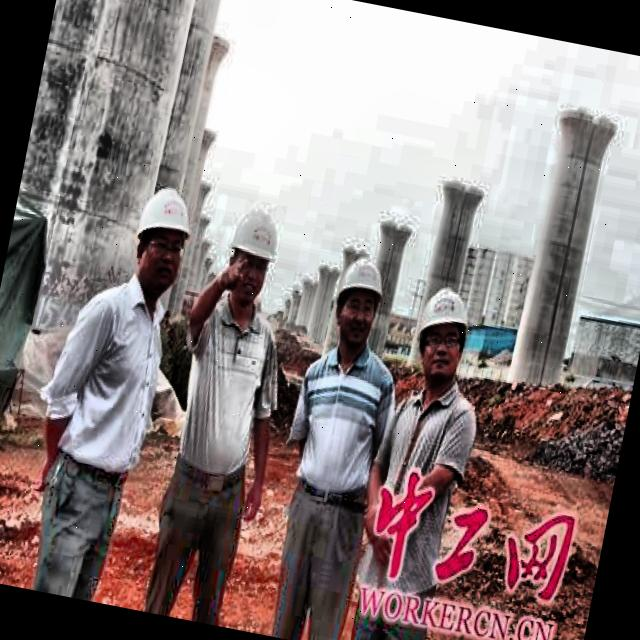helmet: (116, 169, 209, 312), (202, 180, 296, 320), (399, 261, 489, 402), (321, 243, 395, 359)
